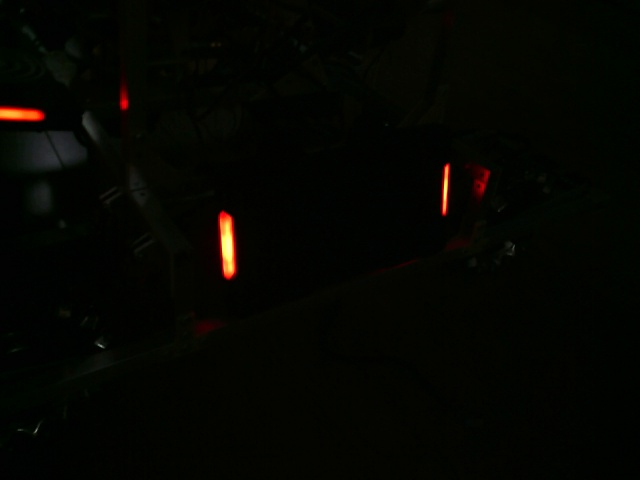lamp: (215, 209, 238, 279), (440, 162, 452, 218)
